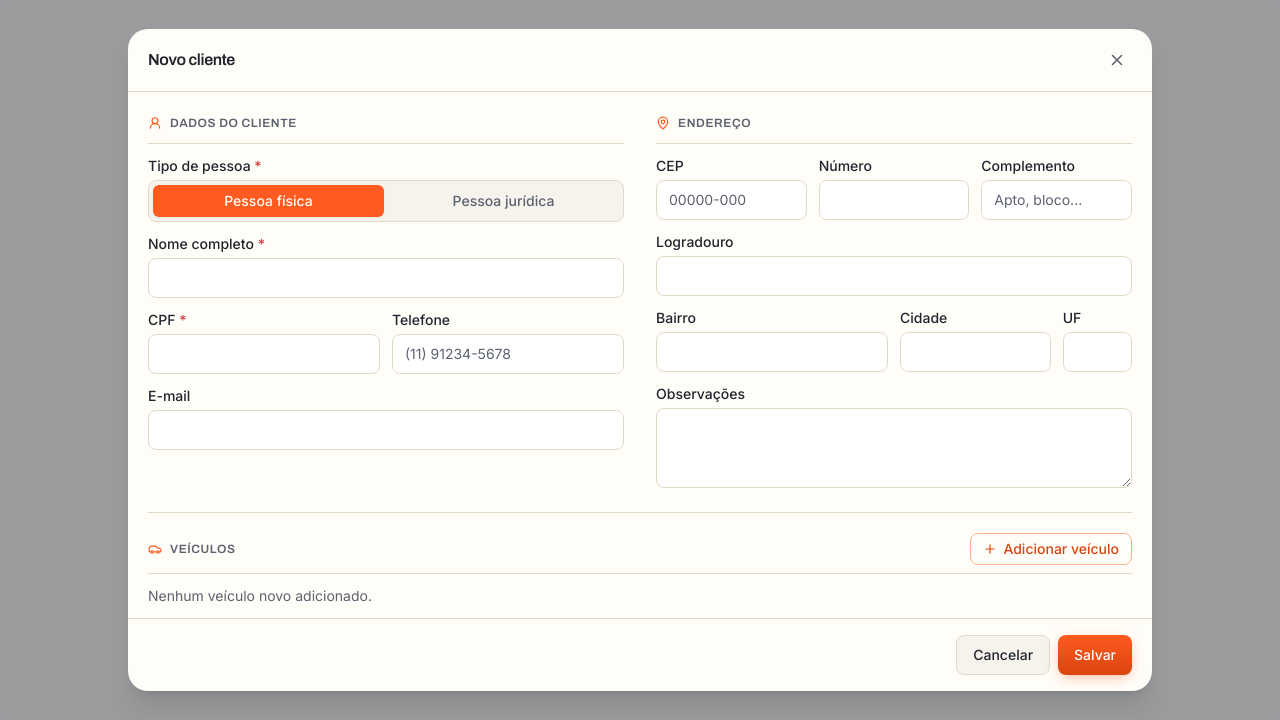
ClienteFormModal › requires a documento before saving once the field has been touched and cleared
This screenshot has width=1280, height=720.
Type "123" into the field labelled "CPF *" at (264, 354), box [148,334,380,374]
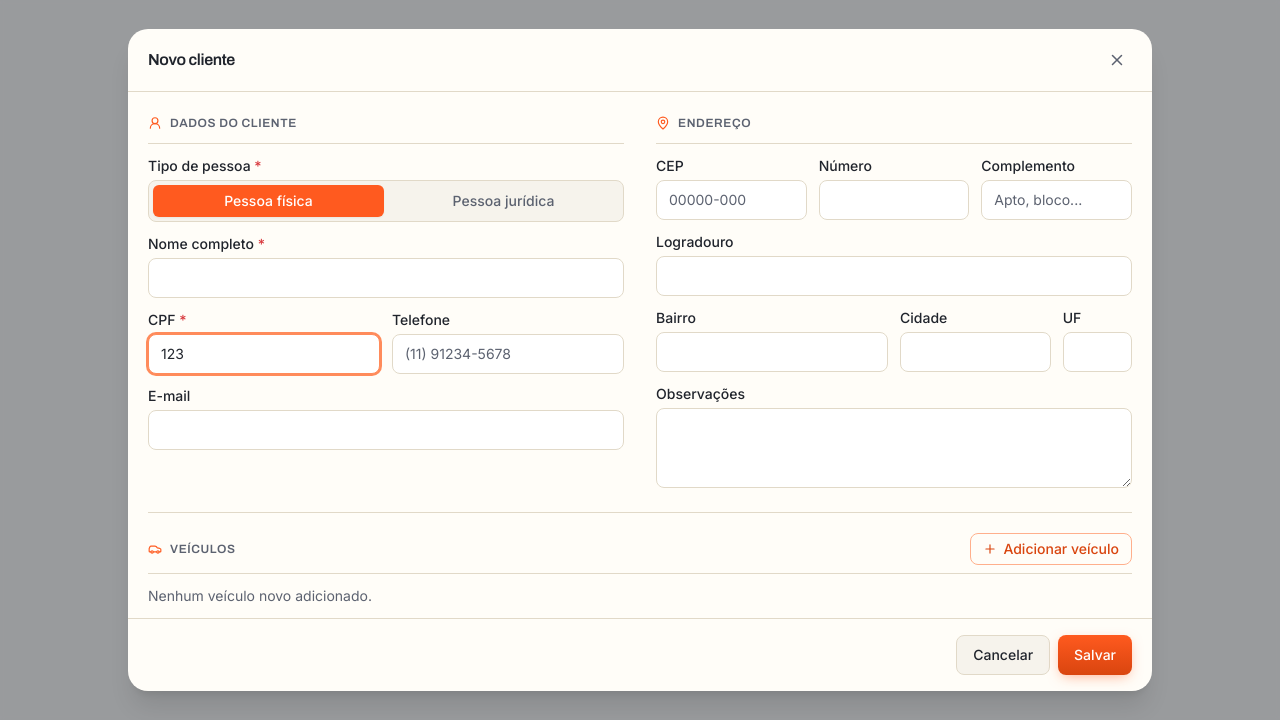
Clear the field labelled "CPF *" at (264, 354), box [148,334,380,374]
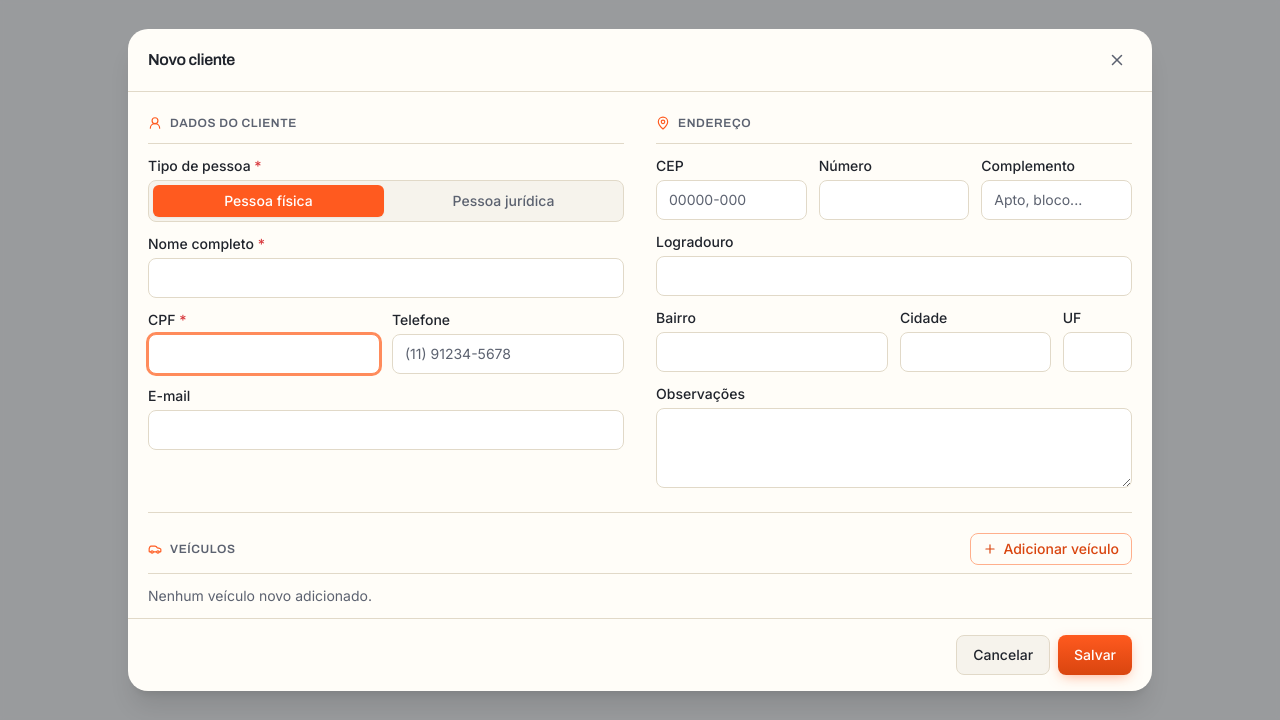
Click the button "Salvar" at (1095, 655), box [1058,635,1132,675]
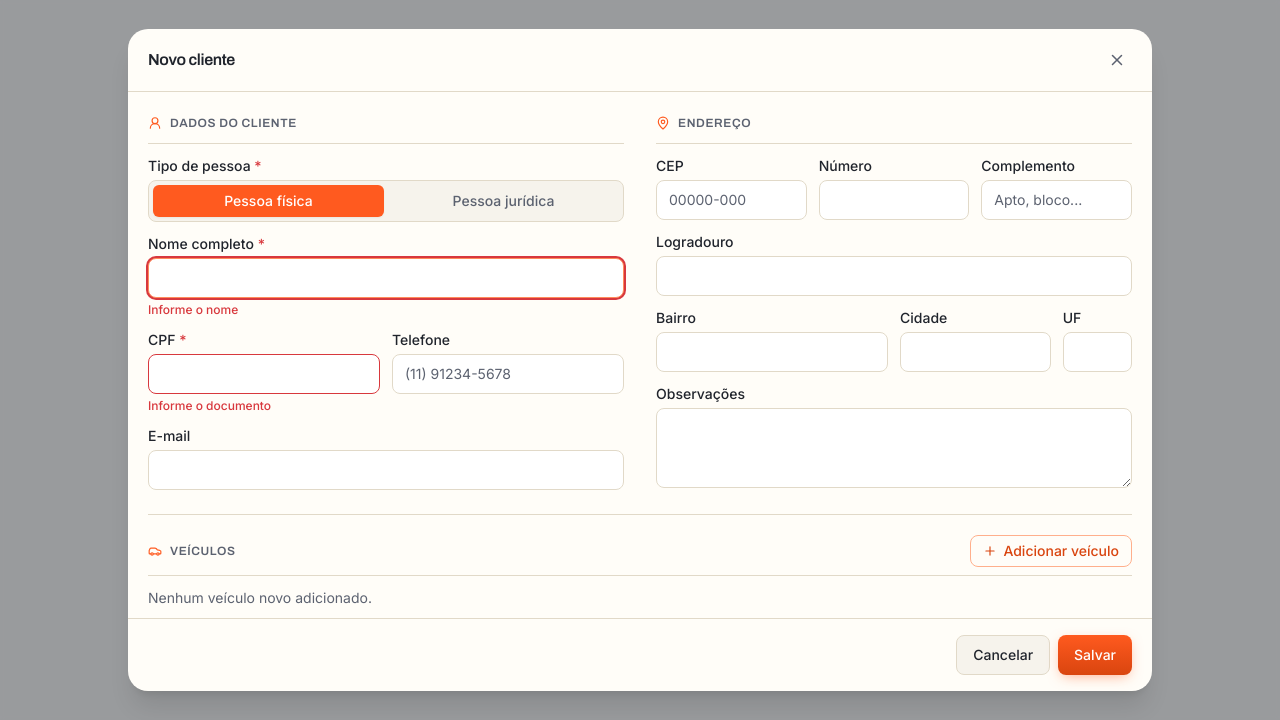
expect the text "Informe o documento" is shown: met, box [148,398,271,413]
